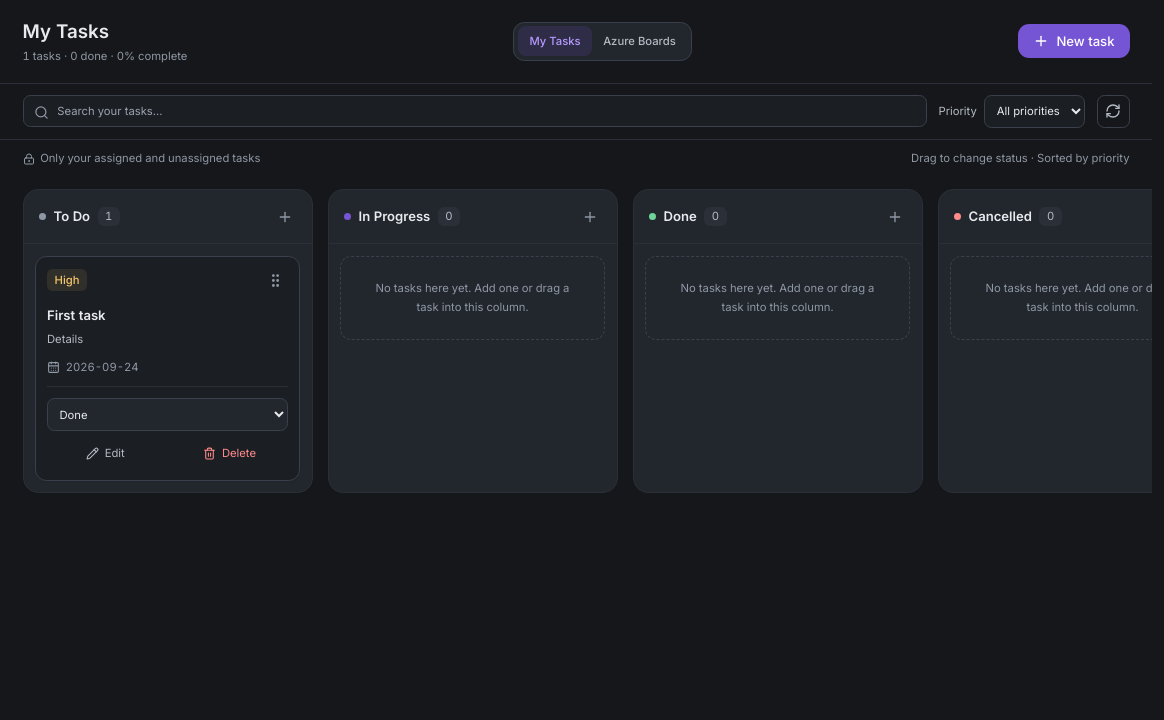
Test case: rolls back a failed status move then updates column and completion count
The image size is (1164, 720).
Select "Done" in the 2nd dropdown. click: [168, 415]
box: [47, 398, 288, 431]
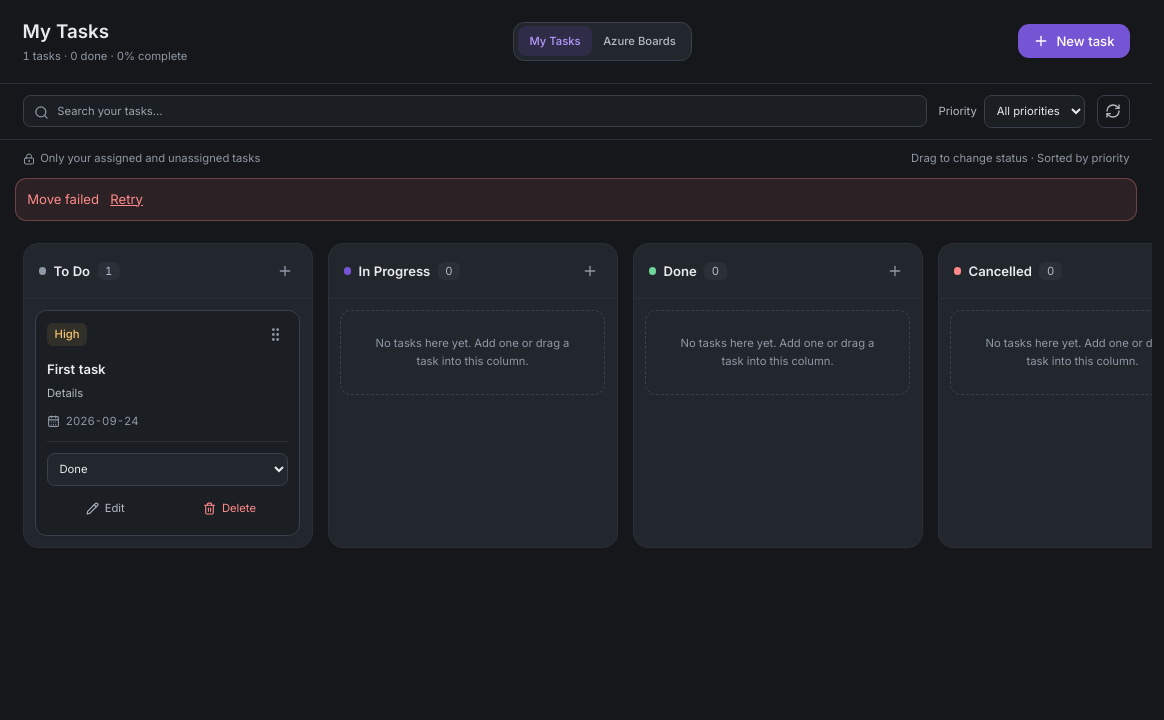
Expected: the element showing "high First task Details 2026-09-24 Edit Delete" is shown, [35, 310, 300, 536]
Expected: the message "Move failed Retry" is shown, [15, 178, 1137, 221]
Select "Done" in the 2nd dropdown. click: [168, 469]
box: [47, 453, 288, 486]
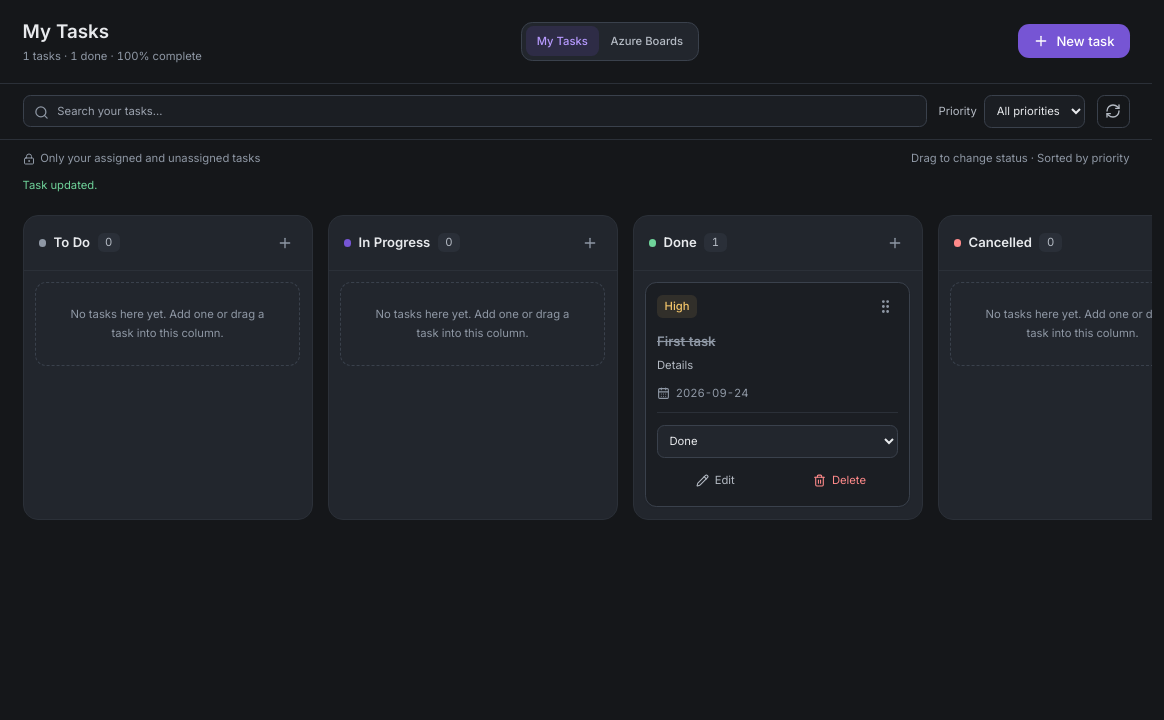
Expected: the element showing "high First task Details 2026-09-24 Edit Delete" is shown, [645, 282, 910, 507]
Expected: the text "1 done · 100% complete" is shown, [22, 49, 202, 63]
